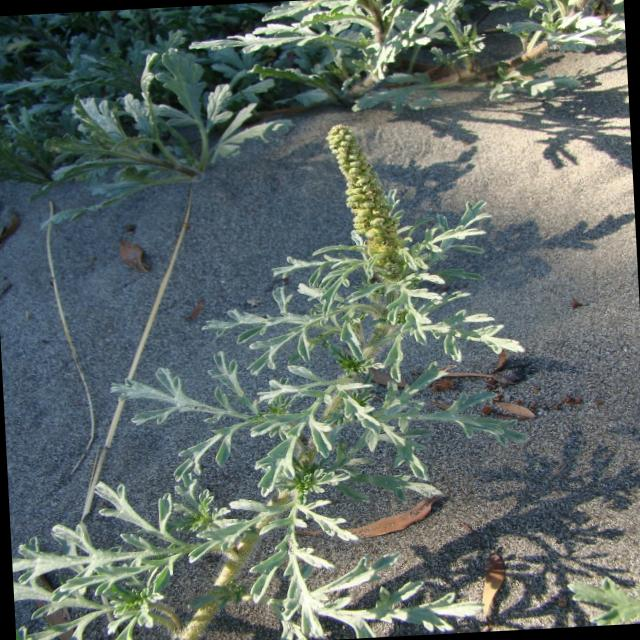ambrosia: (194, 104, 566, 513)
